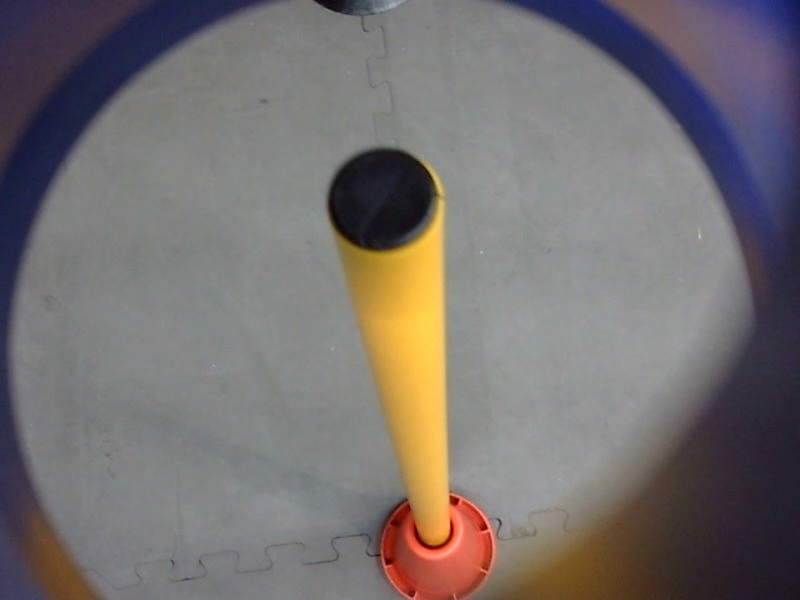tip: (316, 135, 452, 266)
